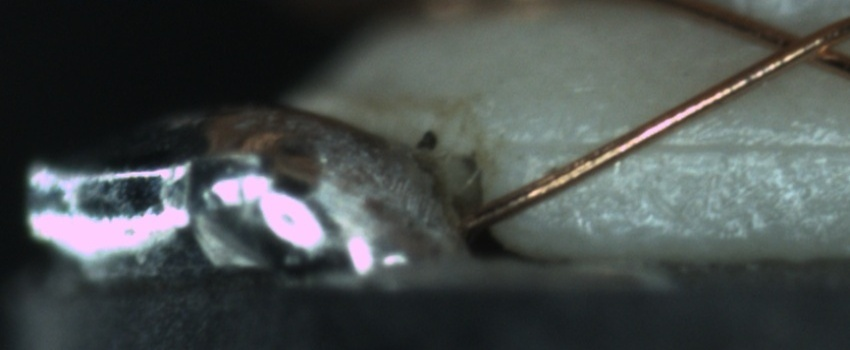CL: (748, 12, 845, 76)
DL: (519, 113, 846, 178)
